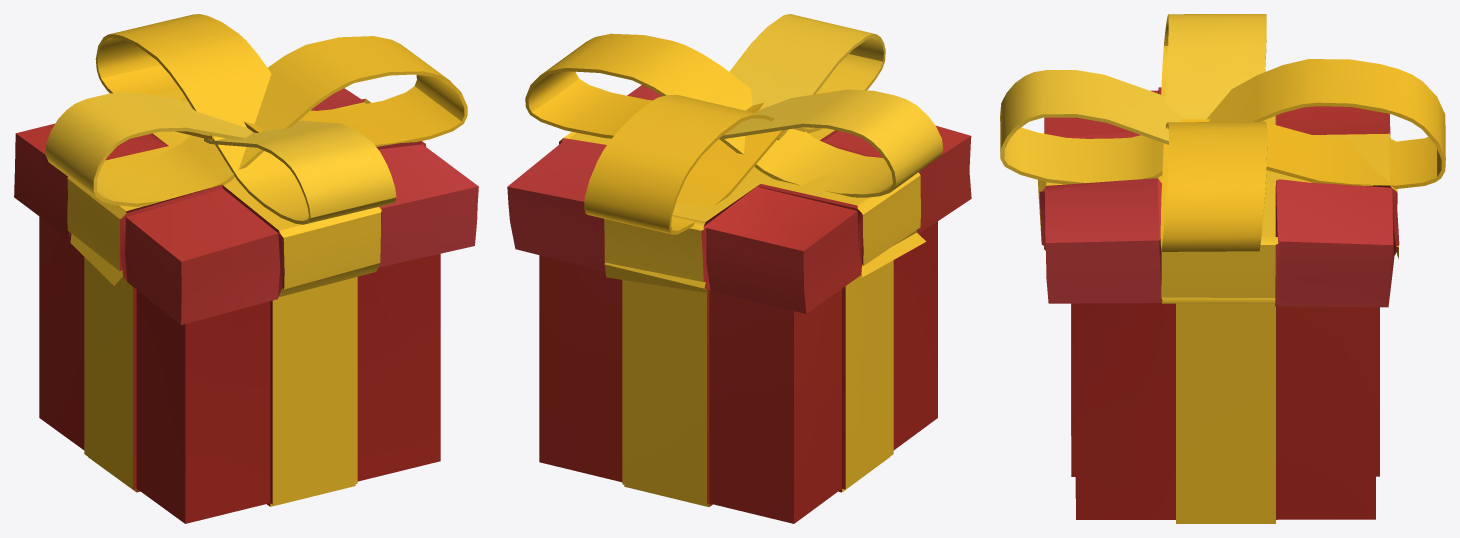
File: GiftBox4.fbx
The picture shows the model from 3 angles, left to right: view 1: azimuth 30°, elevation 25°; view 2: azimuth 150°, elevation 25°; view 3: azimuth 270°, elevation 25°; orthographic projection. The views are drawn at different scales.
Visible parts, largest first — view 1: Christmas Gift; view 2: Christmas Gift; view 3: Christmas Gift.
Boxes of the visible parts, box(x1,y1,x2,y2) form: Christmas Gift: box(14, 14, 478, 523); Christmas Gift: box(507, 14, 971, 523); Christmas Gift: box(1000, 14, 1445, 523).
Bounding box in the file's own units: 1306 × 1225 × 1306.
